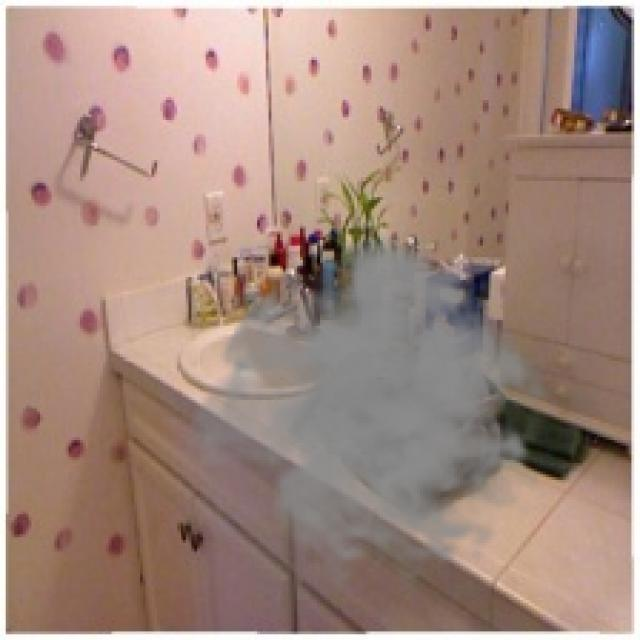smoke: (183, 231, 566, 586)
